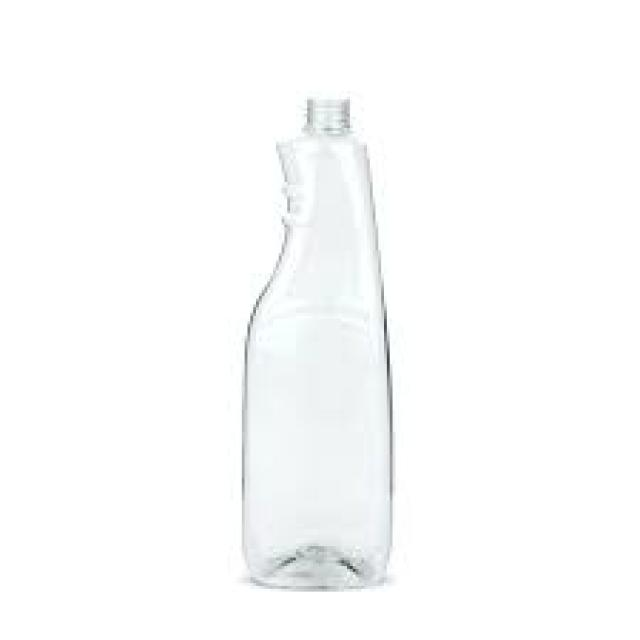bottle: (242, 100, 392, 588)
